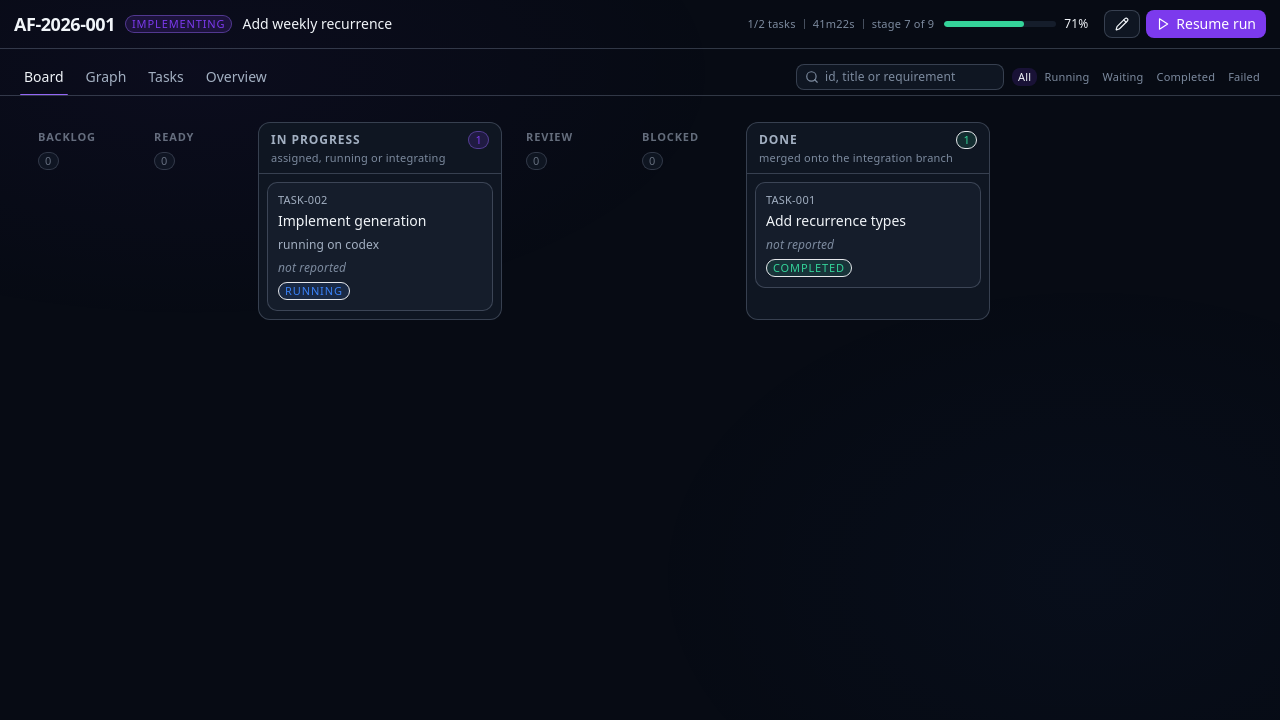
Scenario: the run detail composition › shows validation as an exit code beside the verdict
Click the text "Add recurrence types". click: (836,220)
box: [766,211,906,230]
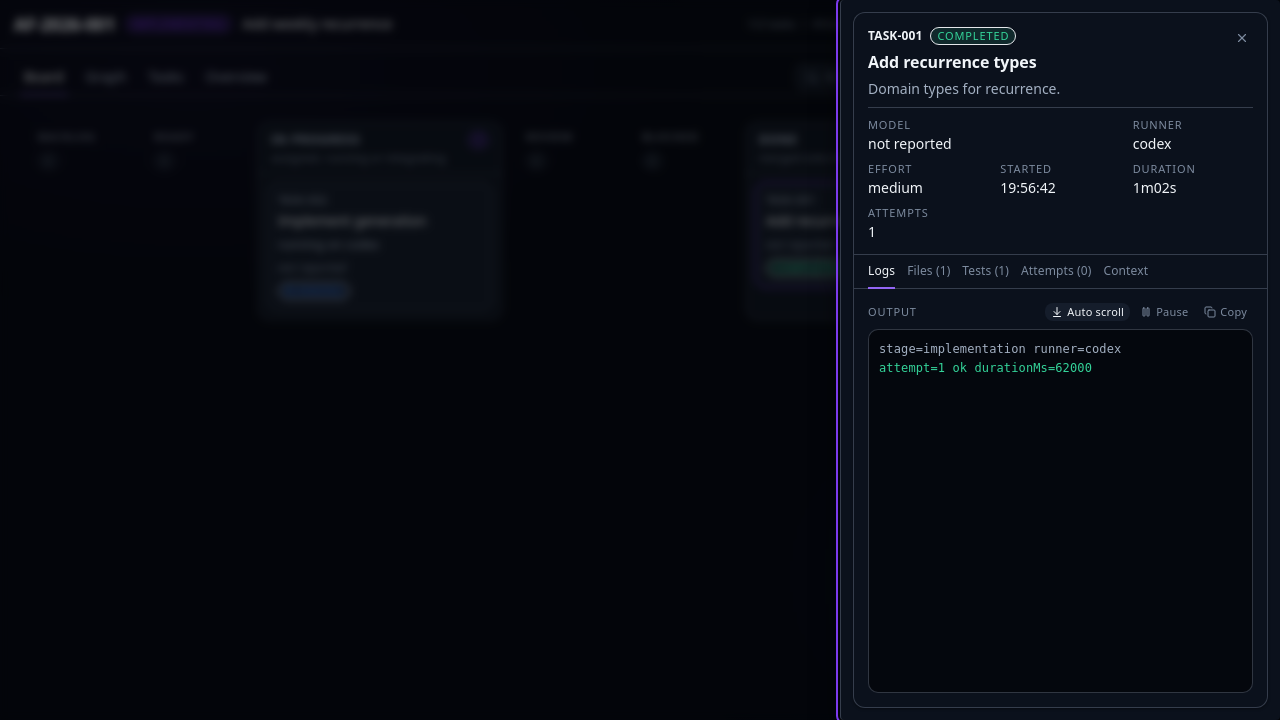
Click the tab "Tests (1)". click: (986,272)
box: [962,255,1009,289]
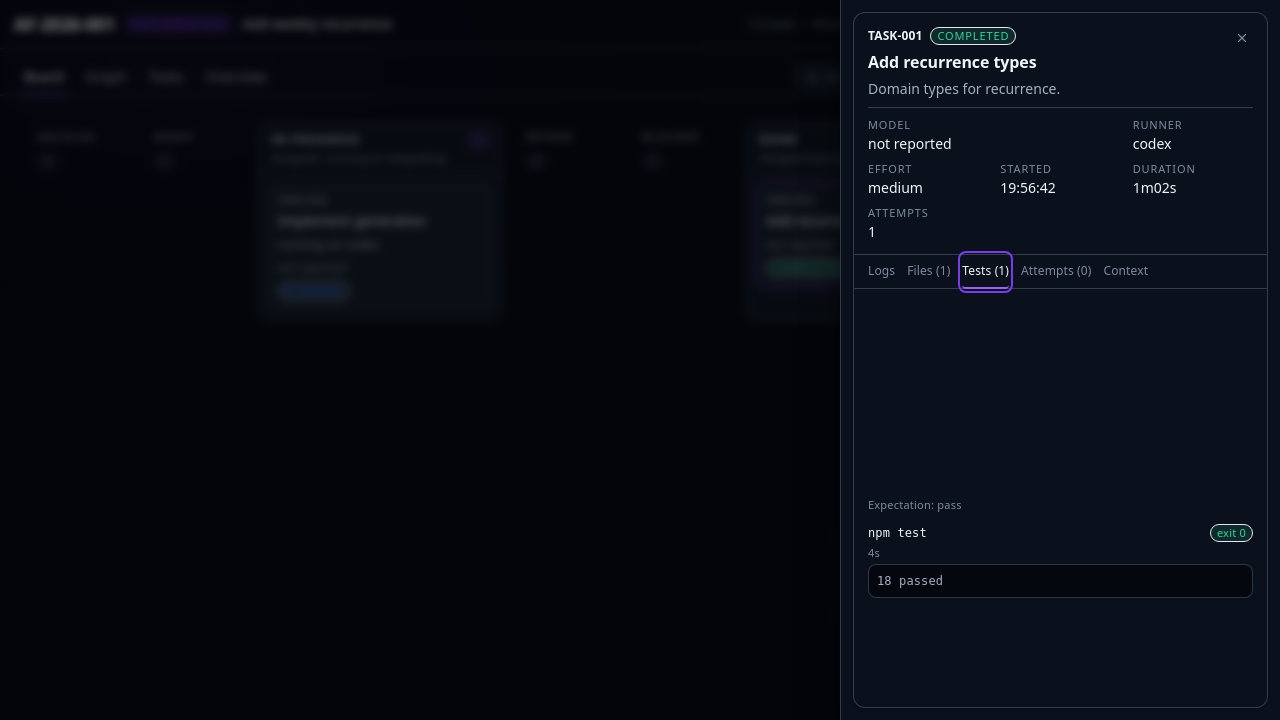
Check: the text "exit 0" is shown, box [1210,524,1253,542]
Check: the text "npm test" is shown, box [868,525,927,541]
